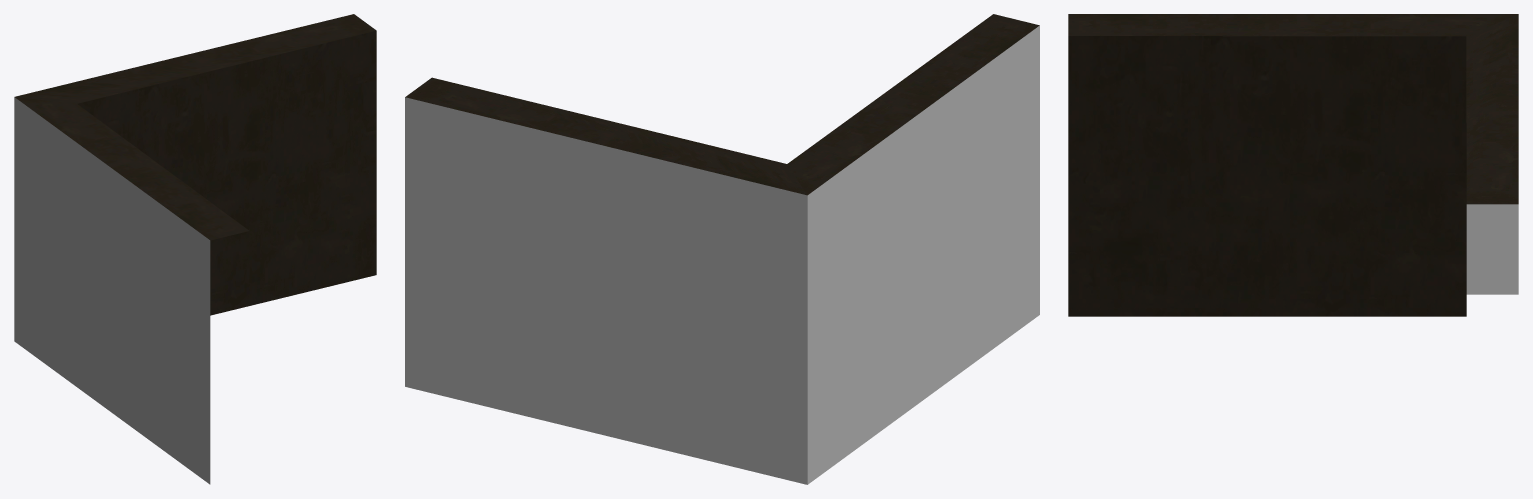
Rendered from fortress_half_concave_03.fbx.
3 views of the same model, side by side, from view 1: azimuth 30°, elevation 25°; view 2: azimuth 150°, elevation 25°; view 3: azimuth 270°, elevation 25° (orthographic). The views are drawn at different scales.
Parts seen in each view (by area): view 1: fortress_half_concave_03-0; view 2: fortress_half_concave_03-0; view 3: fortress_half_concave_03-0.
Part boxes in pixels (bbox=[...]): fortress_half_concave_03-0: bbox=[14, 14, 376, 484]; fortress_half_concave_03-0: bbox=[405, 14, 1039, 484]; fortress_half_concave_03-0: bbox=[1068, 14, 1518, 316].
Bounding box in the file's own units: 4 × 2.75 × 4.
